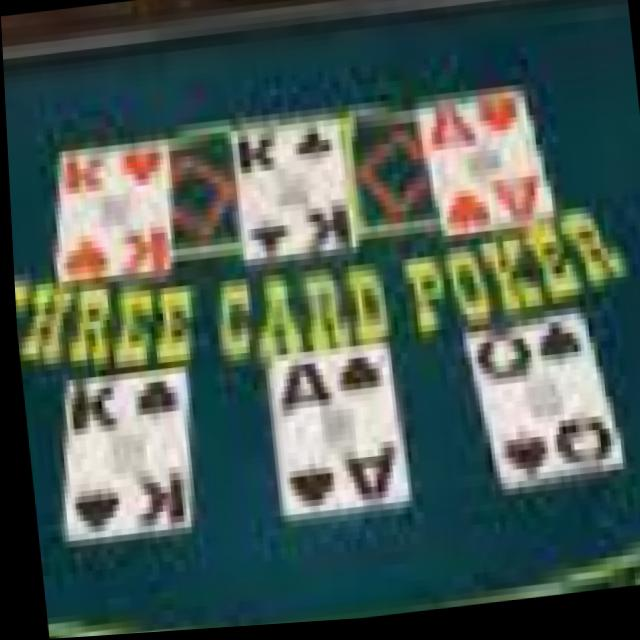Card-A: (264, 348, 401, 517), (413, 91, 553, 238)
Card-K: (62, 366, 184, 543), (230, 117, 351, 264), (58, 143, 168, 280)
Card-Q: (461, 316, 619, 498)
